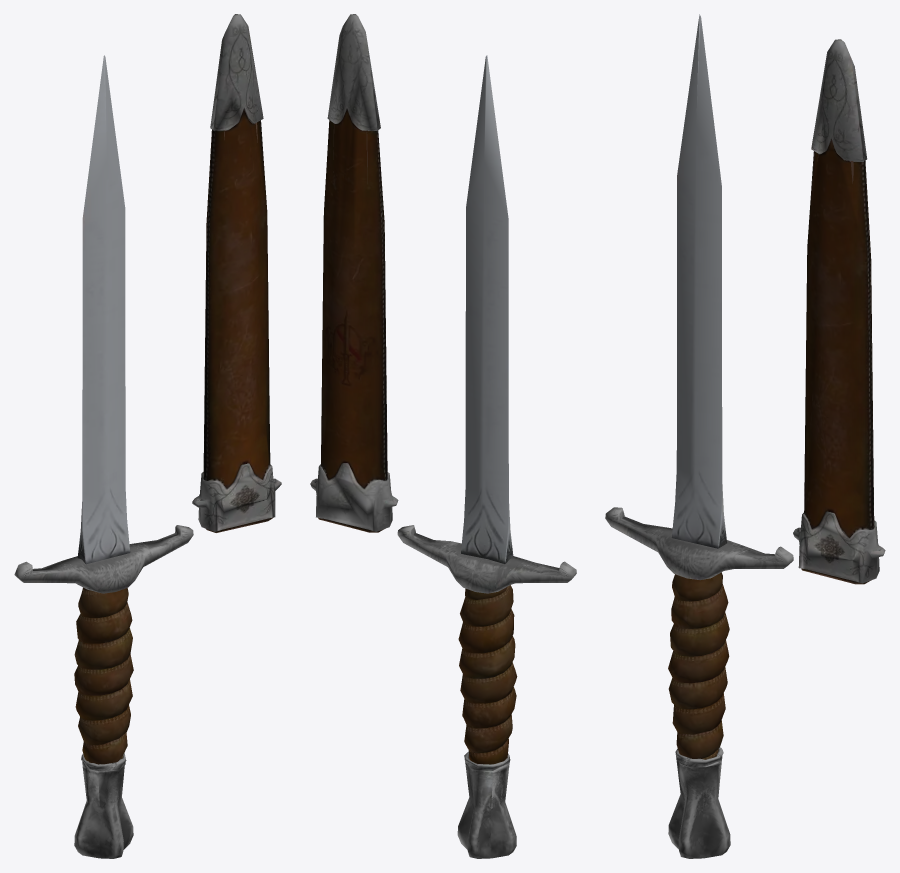
The model's file is ornate_medieval_dagger.glb.
The picture shows the model from 3 angles, left to right: view 1: azimuth 30°, elevation 25°; view 2: azimuth 150°, elevation 25°; view 3: azimuth 330°, elevation 25°; orthographic projection. The views are drawn at different scales.
Parts seen in each view (by area): view 1: ornate_medieval_dagger; view 2: ornate_medieval_dagger; view 3: ornate_medieval_dagger.
Part boxes in pixels (bbox=[...]): ornate_medieval_dagger: bbox=[14, 14, 281, 858]; ornate_medieval_dagger: bbox=[310, 14, 576, 858]; ornate_medieval_dagger: bbox=[605, 14, 885, 858].
Bounding box in the file's own units: 0.1197 × 0.3489 × 0.025.
1 material, 1 textured.
